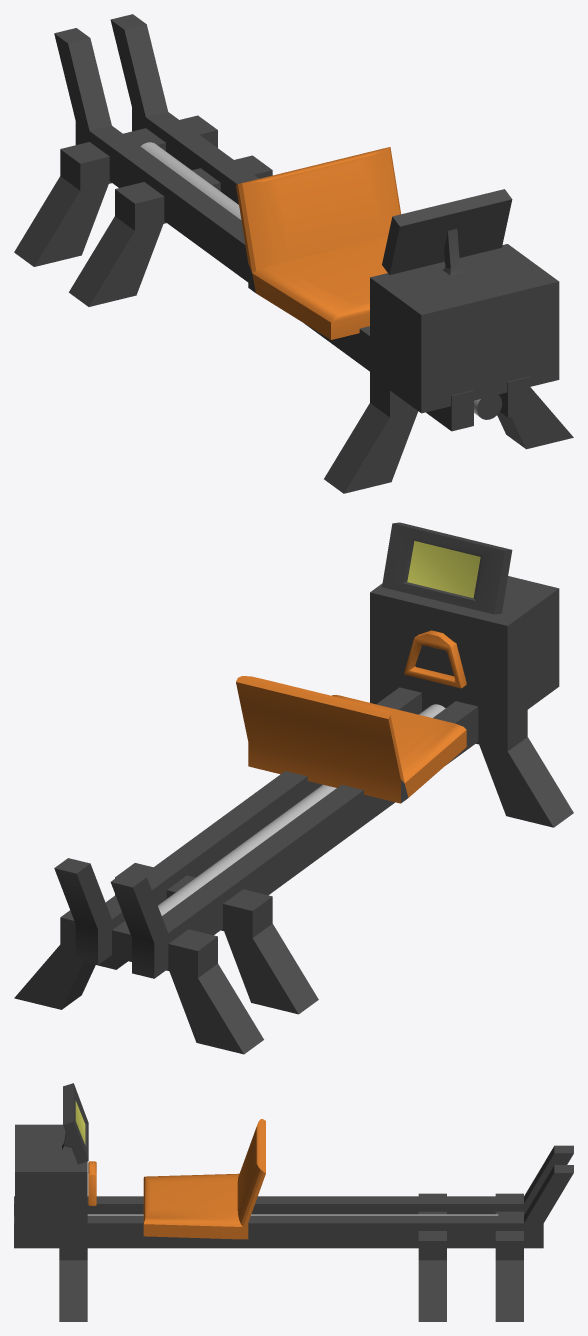
Rendered from rowingMachine.fbx.
3 views of the same model, one above another, from view 1: azimuth 30°, elevation 25°; view 2: azimuth 150°, elevation 25°; view 3: azimuth 270°, elevation 25° (orthographic). The views are drawn at different scales.
Parts seen in each view (by area): view 1: Rowing Machine; view 2: Rowing Machine; view 3: Rowing Machine.
Boxes of the visible parts, left/top/right/bottom form: Rowing Machine: left=14, top=14, right=573, bottom=493; Rowing Machine: left=14, top=522, right=573, bottom=1054; Rowing Machine: left=14, top=1083, right=573, bottom=1321.
Size of the model in its own units: 61.77 by 185 by 65.51.
